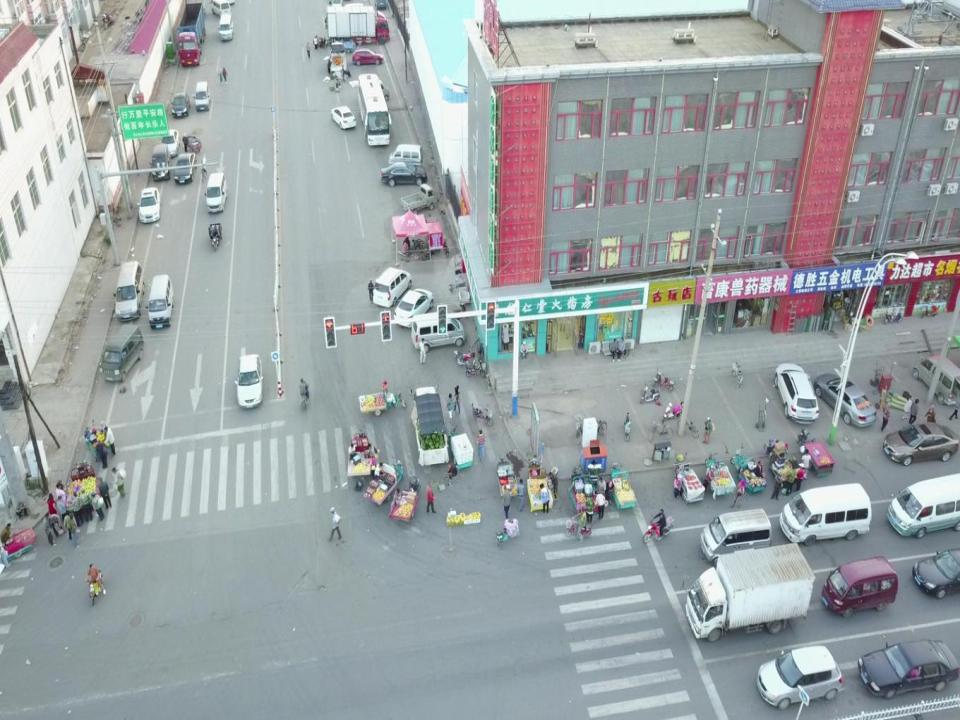bus: (358, 73, 391, 145)
car: (858, 640, 960, 700), (756, 644, 843, 710), (814, 372, 876, 427), (883, 423, 959, 466), (774, 362, 819, 423), (911, 548, 960, 600), (393, 288, 433, 328), (235, 354, 264, 408), (374, 266, 412, 307), (380, 161, 428, 186), (136, 186, 161, 223), (174, 152, 197, 184), (331, 105, 356, 130), (159, 129, 180, 156), (352, 48, 384, 65), (170, 92, 190, 119)
truck: (686, 541, 815, 641), (409, 383, 449, 466), (326, 6, 390, 45), (178, 2, 206, 66), (399, 183, 437, 214), (328, 42, 347, 76)
van: (778, 482, 872, 546), (887, 472, 960, 539), (821, 556, 898, 616), (700, 507, 772, 567), (100, 324, 144, 382), (912, 354, 960, 406), (412, 313, 465, 352), (114, 261, 144, 321), (146, 274, 174, 328), (204, 171, 227, 213), (390, 144, 422, 168), (150, 143, 170, 181), (360, 80, 390, 103), (192, 81, 210, 112), (218, 14, 234, 41), (209, 0, 231, 18)
